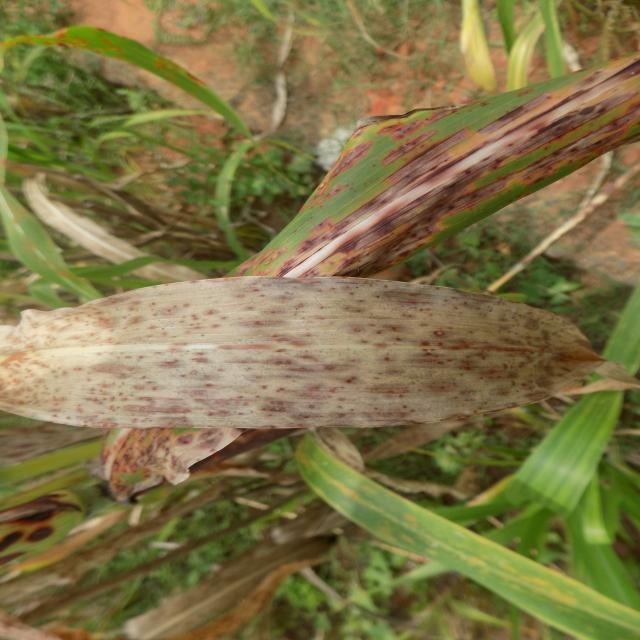millet_healthy: (487, 288, 640, 639), (212, 126, 262, 256)
millet_rust: (91, 51, 640, 500), (0, 274, 640, 430), (0, 484, 239, 640), (123, 512, 355, 640), (17, 20, 268, 135), (18, 170, 255, 278), (461, 0, 546, 91)
